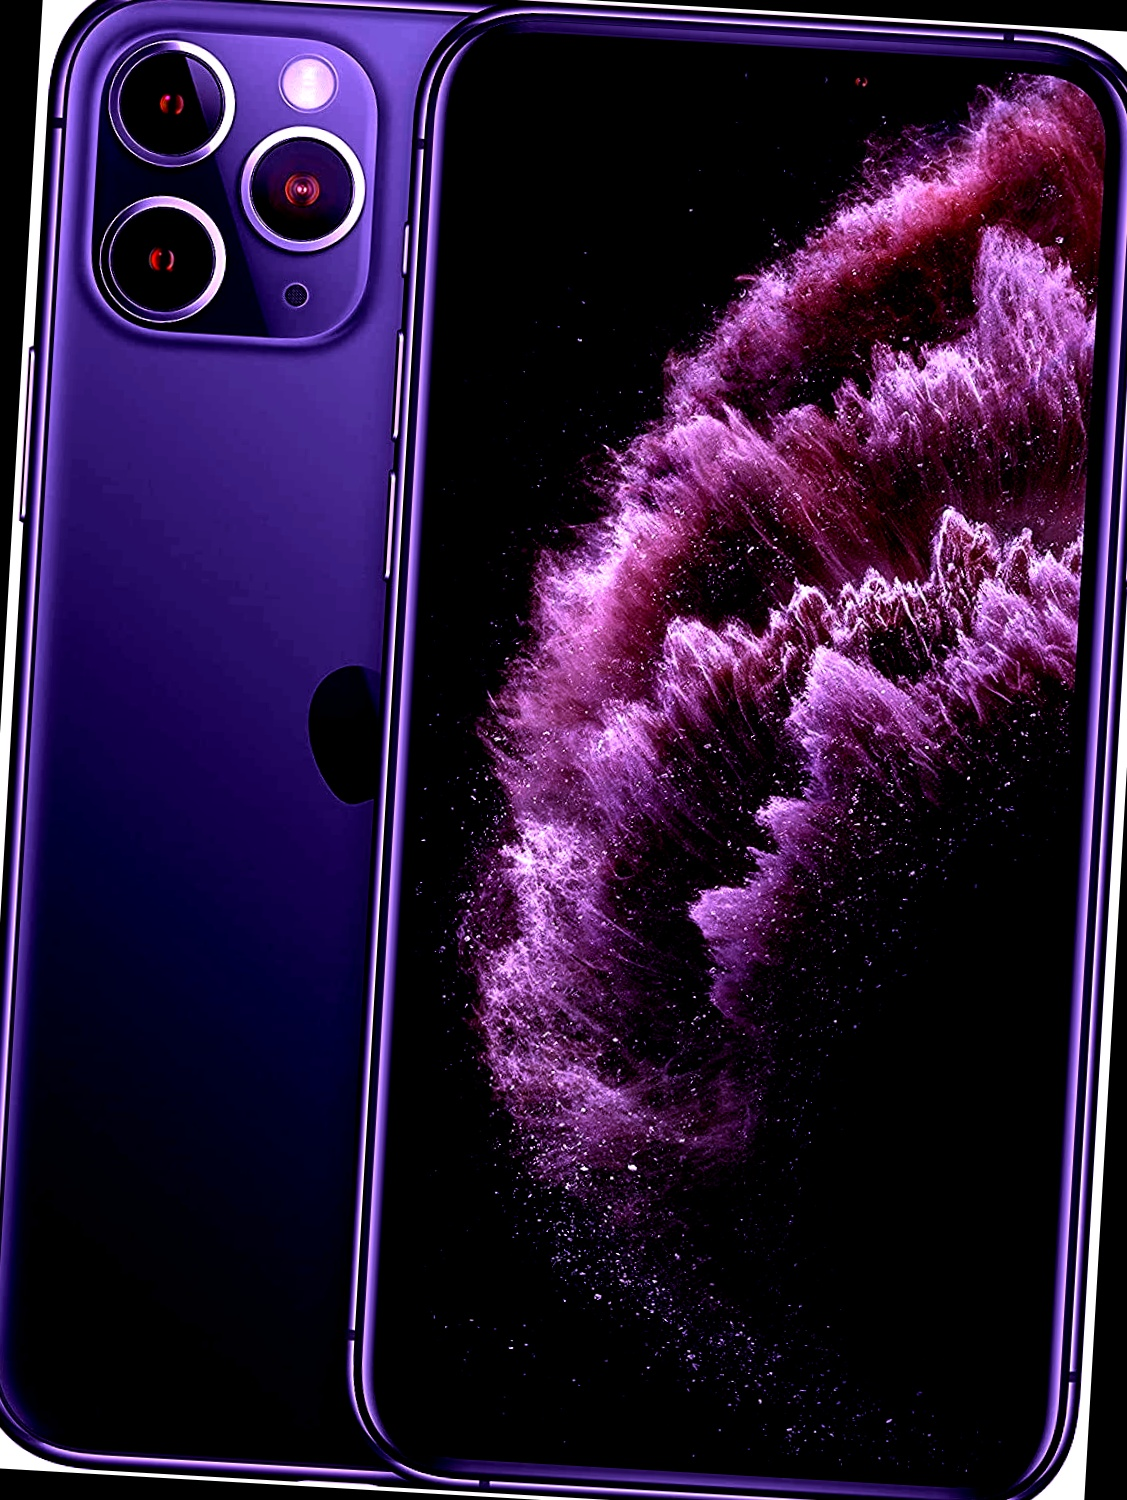iphone: (373, 4, 1123, 1496)
